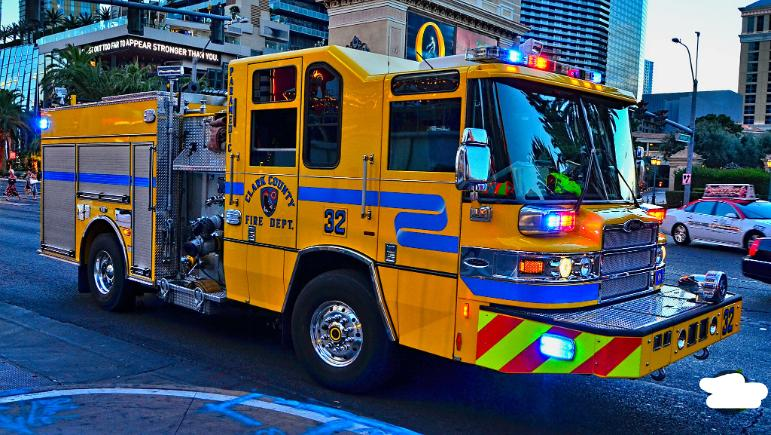firetruck_on: (39, 43, 742, 400)
